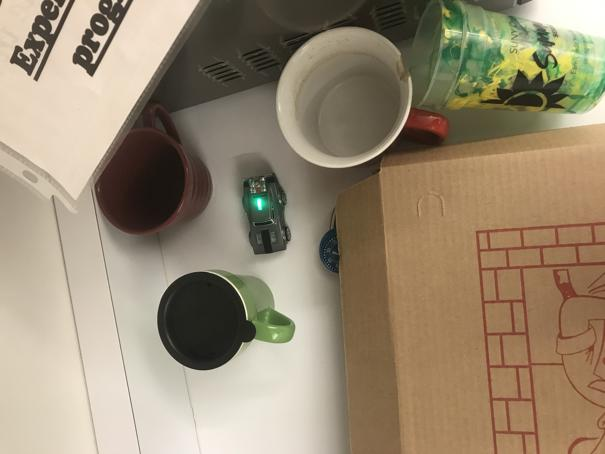Charger: (240, 172, 290, 257)
